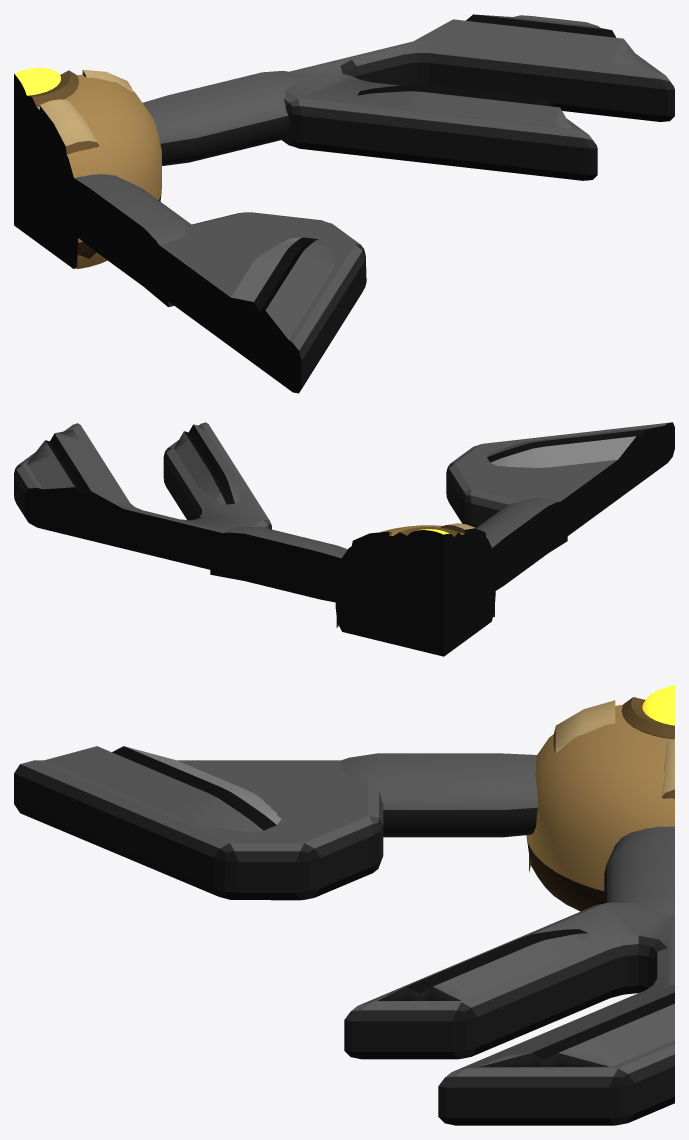
The model's file is spin_claw_117.glb.
3 views of the same model, one above another, from view 1: azimuth 30°, elevation 25°; view 2: azimuth 150°, elevation 25°; view 3: azimuth 270°, elevation 25° (orthographic). The views are drawn at different scales.
Parts seen in each view (by area): view 1: spin_claw_117_arm1_plate, spin_claw_117_arm2_plate, spin_claw_117_hub_dome, spin_claw_117_arm1_rod, spin_claw_117_arm2_rod, spin_claw_117_arm2_ridge0, spin_claw_117_arm1_ridge0, spin_claw_117_arm1_ridge1, spin_claw_117_hub_rib2, spin_claw_117_hub_lens, spin_claw_117_hub_bezel; view 2: spin_claw_117_arm1_plate, spin_claw_117_hub_dome, spin_claw_117_arm2_plate, spin_claw_117_arm1_rod, spin_claw_117_arm2_rod, spin_claw_117_arm2_ridge0, spin_claw_117_arm1_ridge0, spin_claw_117_arm1_ridge1, spin_claw_117_hub_lens, spin_claw_117_hub_bezel, spin_claw_117_hub_rib2; view 3: spin_claw_117_arm1_plate, spin_claw_117_arm2_plate, spin_claw_117_hub_dome, spin_claw_117_arm2_rod, spin_claw_117_arm2_ridge0, spin_claw_117_arm1_ridge0, spin_claw_117_arm1_ridge1, spin_claw_117_arm1_rod, spin_claw_117_hub_rib2, spin_claw_117_hub_bezel, spin_claw_117_hub_lens, spin_claw_117_hub_rib1.
Boxes of the visible parts, box(x1,y1,x2,y2) form: spin_claw_117_arm1_plate: box(282, 15, 674, 180); spin_claw_117_arm2_plate: box(141, 212, 366, 393); spin_claw_117_hub_dome: box(14, 74, 161, 268); spin_claw_117_arm1_rod: box(143, 71, 295, 165); spin_claw_117_arm2_rod: box(53, 166, 191, 307); spin_claw_117_arm2_ridge0: box(225, 237, 333, 352); spin_claw_117_arm1_ridge0: box(413, 14, 646, 67); spin_claw_117_arm1_ridge1: box(357, 84, 572, 128); spin_claw_117_hub_rib2: box(40, 99, 107, 269); spin_claw_117_hub_lens: box(14, 67, 60, 111); spin_claw_117_hub_bezel: box(14, 70, 78, 115); spin_claw_117_arm1_plate: box(14, 422, 271, 576); spin_claw_117_hub_dome: box(335, 525, 495, 656); spin_claw_117_arm2_plate: box(446, 422, 674, 548); spin_claw_117_arm1_rod: box(210, 526, 369, 608); spin_claw_117_arm2_rod: box(475, 498, 567, 602); spin_claw_117_arm2_ridge0: box(487, 425, 668, 468); spin_claw_117_arm1_ridge0: box(27, 429, 129, 517); spin_claw_117_arm1_ridge1: box(174, 424, 239, 504); spin_claw_117_hub_lens: box(405, 529, 454, 556); spin_claw_117_hub_bezel: box(394, 527, 461, 555); spin_claw_117_hub_rib2: box(440, 523, 494, 617); spin_claw_117_arm1_plate: box(344, 902, 674, 1125); spin_claw_117_arm2_plate: box(14, 760, 383, 900); spin_claw_117_hub_dome: box(526, 704, 674, 911); spin_claw_117_arm2_rod: box(340, 753, 537, 837); spin_claw_117_arm2_ridge0: box(44, 746, 281, 832); spin_claw_117_arm1_ridge0: box(479, 984, 674, 1066); spin_claw_117_arm1_ridge1: box(378, 929, 589, 1000); spin_claw_117_arm1_rod: box(604, 826, 674, 914); spin_claw_117_hub_rib2: box(529, 700, 615, 872); spin_claw_117_hub_bezel: box(621, 697, 674, 739); spin_claw_117_hub_lens: box(642, 685, 674, 725); spin_claw_117_hub_rib1: box(661, 738, 674, 798).
Bounding box in the file's own units: 23.7 × 6.19 × 21.08.
